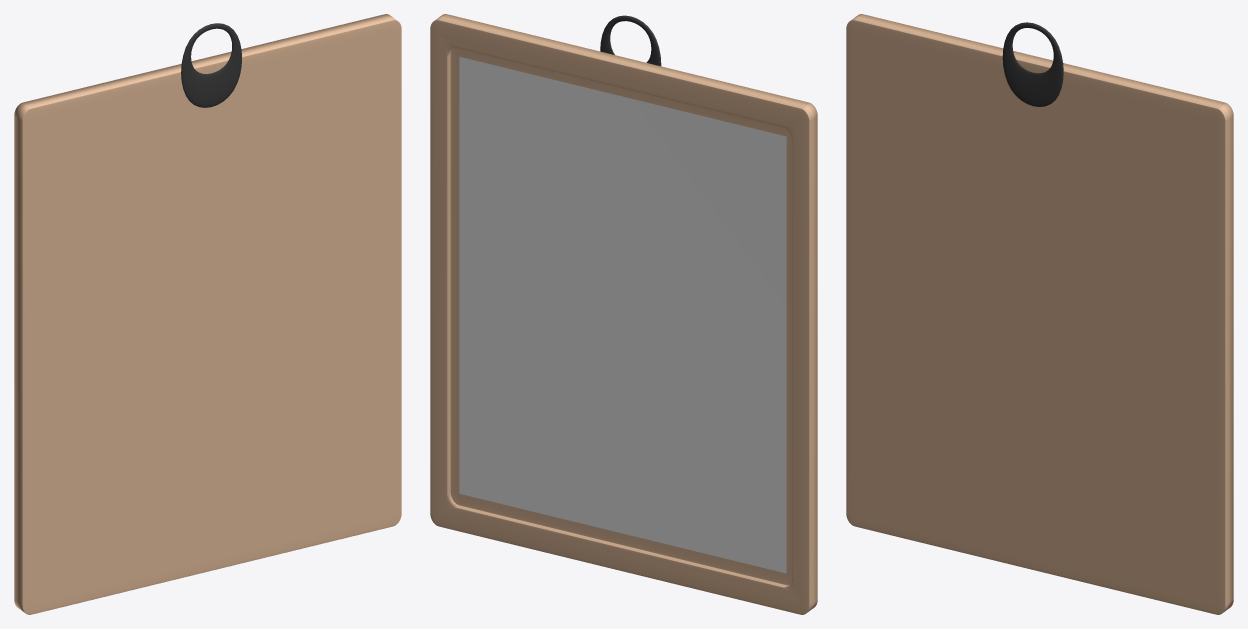
File: bulletin.fbx
3 renders of one model, left to right at view 1: azimuth 30°, elevation 25°; view 2: azimuth 150°, elevation 25°; view 3: azimuth 330°, elevation 25°, orthographic.
Parts seen in each view (by area): view 1: Cube.009, Plane.002; view 2: Cube.009, Plane.002; view 3: Cube.009, Plane.002.
Part boxes in pixels (box(x1,y1,x2,y2)): Cube.009: box(14, 14, 401, 614); Plane.002: box(181, 23, 241, 107); Cube.009: box(430, 14, 817, 614); Plane.002: box(600, 15, 661, 66); Cube.009: box(846, 14, 1233, 614); Plane.002: box(1002, 22, 1063, 106).
Bounding box in the file's own units: 52.18 × 72.02 × 2.48.
